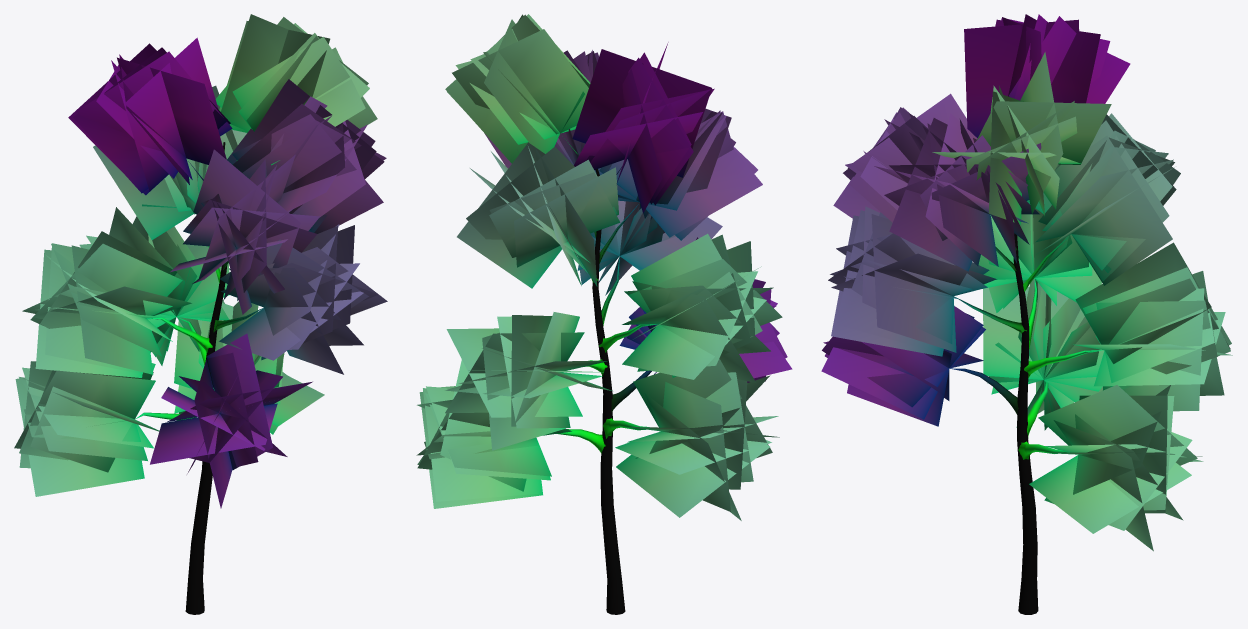
File: URP_P6_Tree_1_LOD_2.fbx
3 views of the same model, side by side, from view 1: azimuth 30°, elevation 25°; view 2: azimuth 150°, elevation 25°; view 3: azimuth 270°, elevation 25° (orthographic). The views are drawn at different scales.
Visible parts, largest first — view 1: Tree_1_LOD_2; view 2: Tree_1_LOD_2; view 3: Tree_1_LOD_2.
Part boxes in pixels (<box>): Tree_1_LOD_2: <box>14,14,387,614</box>; Tree_1_LOD_2: <box>416,14,792,614</box>; Tree_1_LOD_2: <box>821,14,1232,614</box>.
Size of the model in its own units: 509 by 862 by 544.
